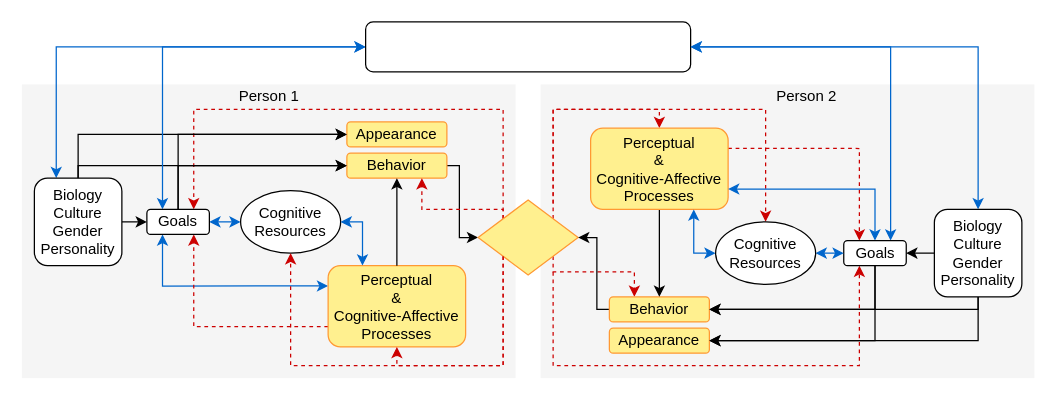
Some shapes in this 1055 by 400 pixel diagram are drawn without their labels. Each missing label, with the centre of its shape:
"Interaction" belongs at pixel 527 237.
"Social Environment Settings Design, Physical Features, Social Norms" belongs at pixel 527 46.
